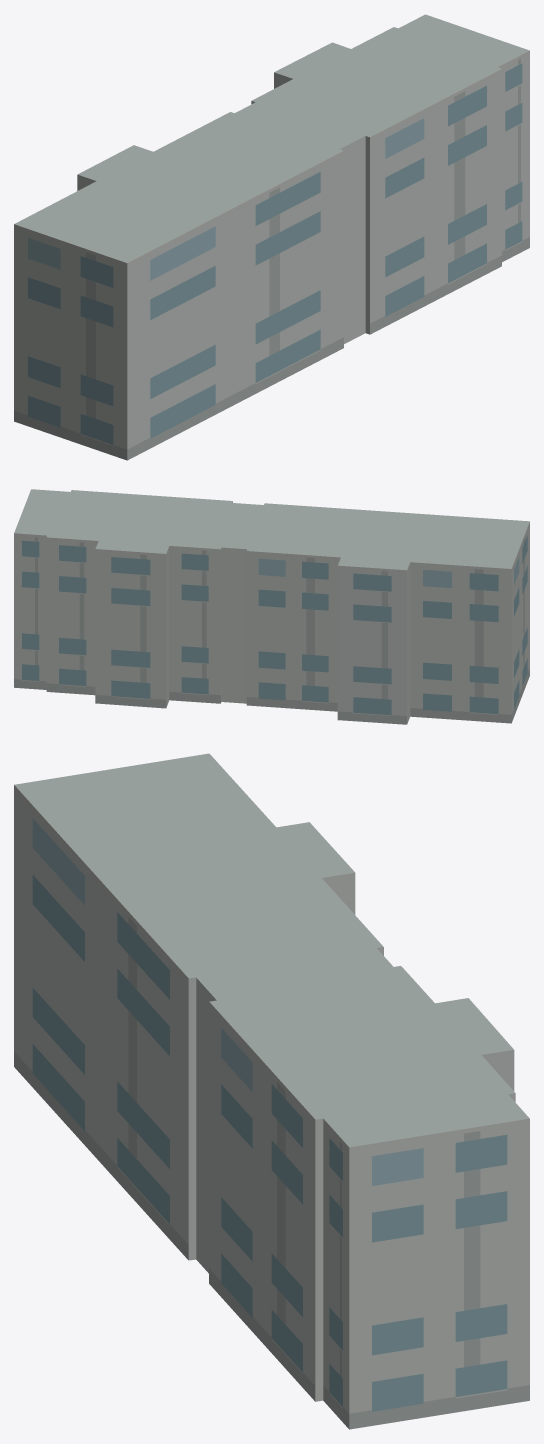
File: survey-upis-32861380.glb
3 renders of one model, top to bottom at view 1: azimuth 30°, elevation 25°; view 2: azimuth 150°, elevation 25°; view 3: azimuth 270°, elevation 25°, orthographic. The views are drawn at different scales.
Visible parts, largest first — view 1: survey-upis-32861380.tmp; view 2: survey-upis-32861380.tmp; view 3: survey-upis-32861380.tmp.
Boxes of the visible parts, box(x1,y1,x2,y2) form: survey-upis-32861380.tmp: box(14, 14, 529, 460); survey-upis-32861380.tmp: box(14, 489, 529, 724); survey-upis-32861380.tmp: box(14, 753, 529, 1429).
Size of the model in its own units: 45.68 by 15.25 by 25.28.
